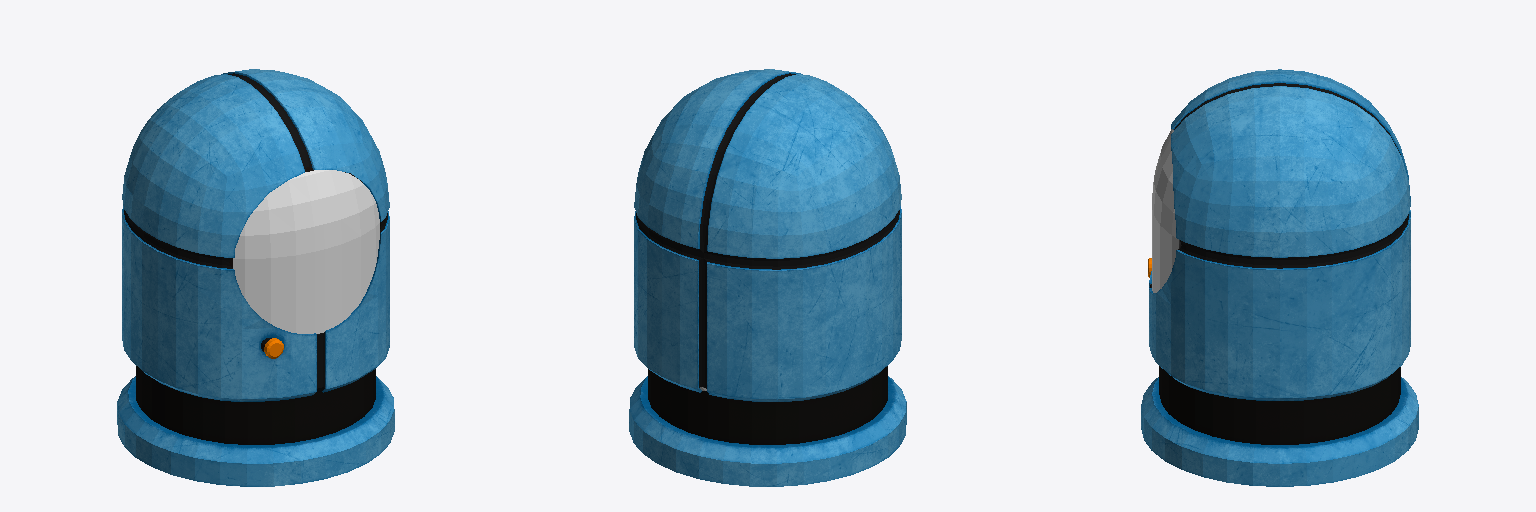
3 views of the same model, side by side, from view 1: azimuth 30°, elevation 25°; view 2: azimuth 150°, elevation 25°; view 3: azimuth 270°, elevation 25° (orthographic).
Visible parts, largest first — view 1: Object_0, Object_2; view 2: Object_0; view 3: Object_0, Object_2.
Part boxes in pixels (x1,y1,x2,y2): Object_0: (117,69,394,486); Object_2: (233,170,379,333); Object_0: (629,69,906,486); Object_0: (1141,69,1418,486); Object_2: (1152,129,1178,292).
Size of the model in its own units: 1.77 by 2.43 by 1.77.
3 materials, 1 textured.